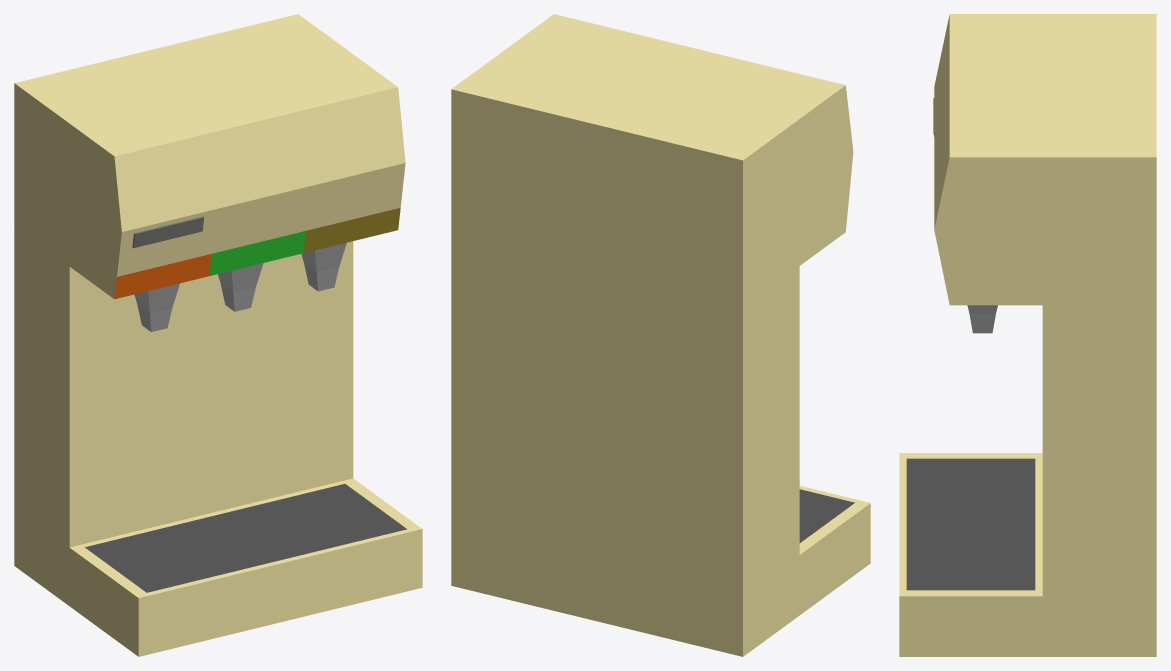
Rendered from Beverage_machine.fbx.
The picture shows the model from 3 angles, left to right: view 1: azimuth 30°, elevation 25°; view 2: azimuth 150°, elevation 25°; view 3: azimuth 270°, elevation 25°; orthographic projection. The views are drawn at different scales.
Visible parts, largest first — view 1: Beverage_machine; view 2: Beverage_machine; view 3: Beverage_machine.
Boxes of the visible parts, bbox=[...] form: Beverage_machine: bbox=[14, 14, 422, 656]; Beverage_machine: bbox=[451, 14, 870, 656]; Beverage_machine: bbox=[899, 14, 1156, 656].
Bounding box in the file's own units: 63.85 × 104 × 48.43.
